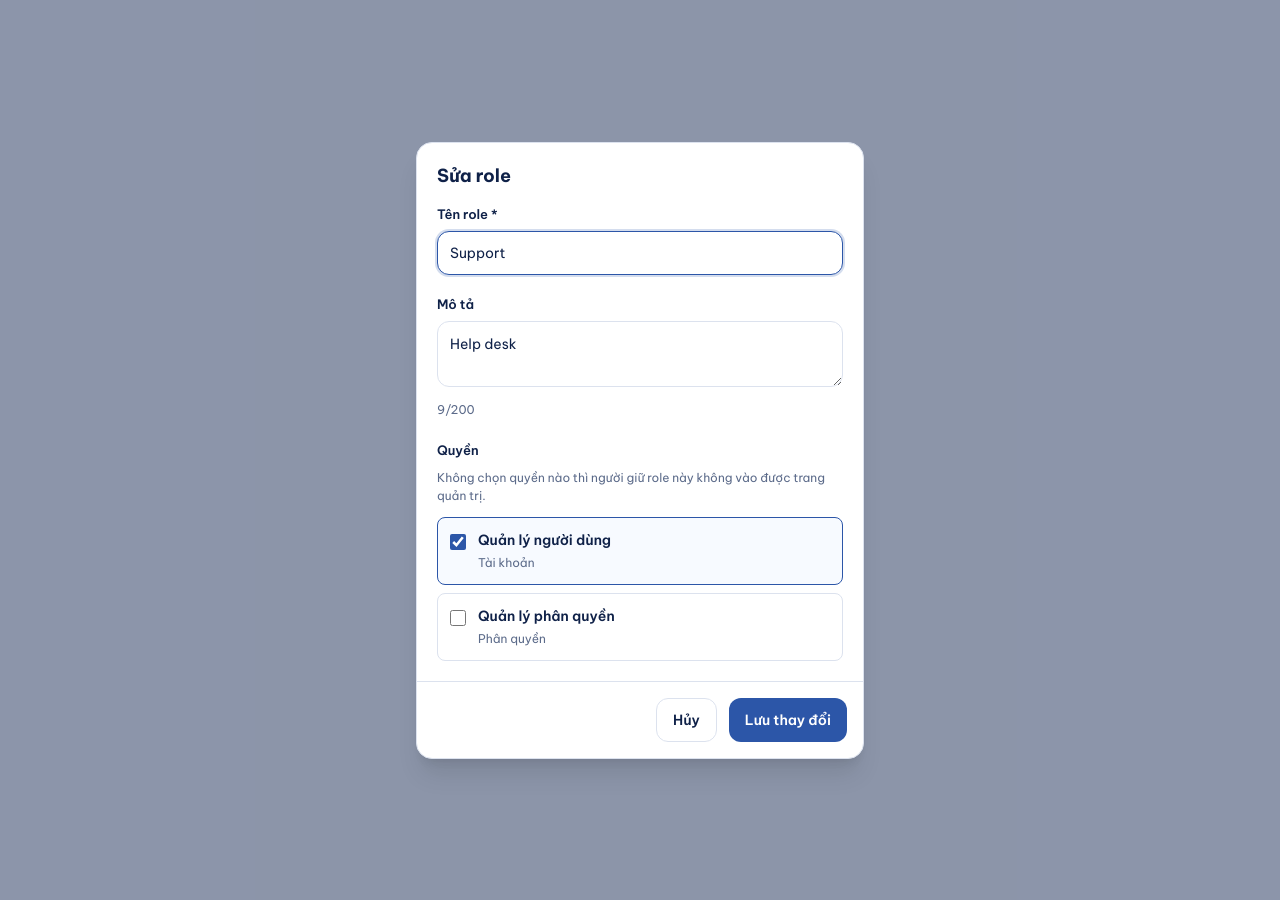
Test: A6 Roles contracts and governance safety › preserves last_role_manager error instead of weakening protection
Click the button "Lưu thay đổi" at [788, 720], box [729,698,847,742]
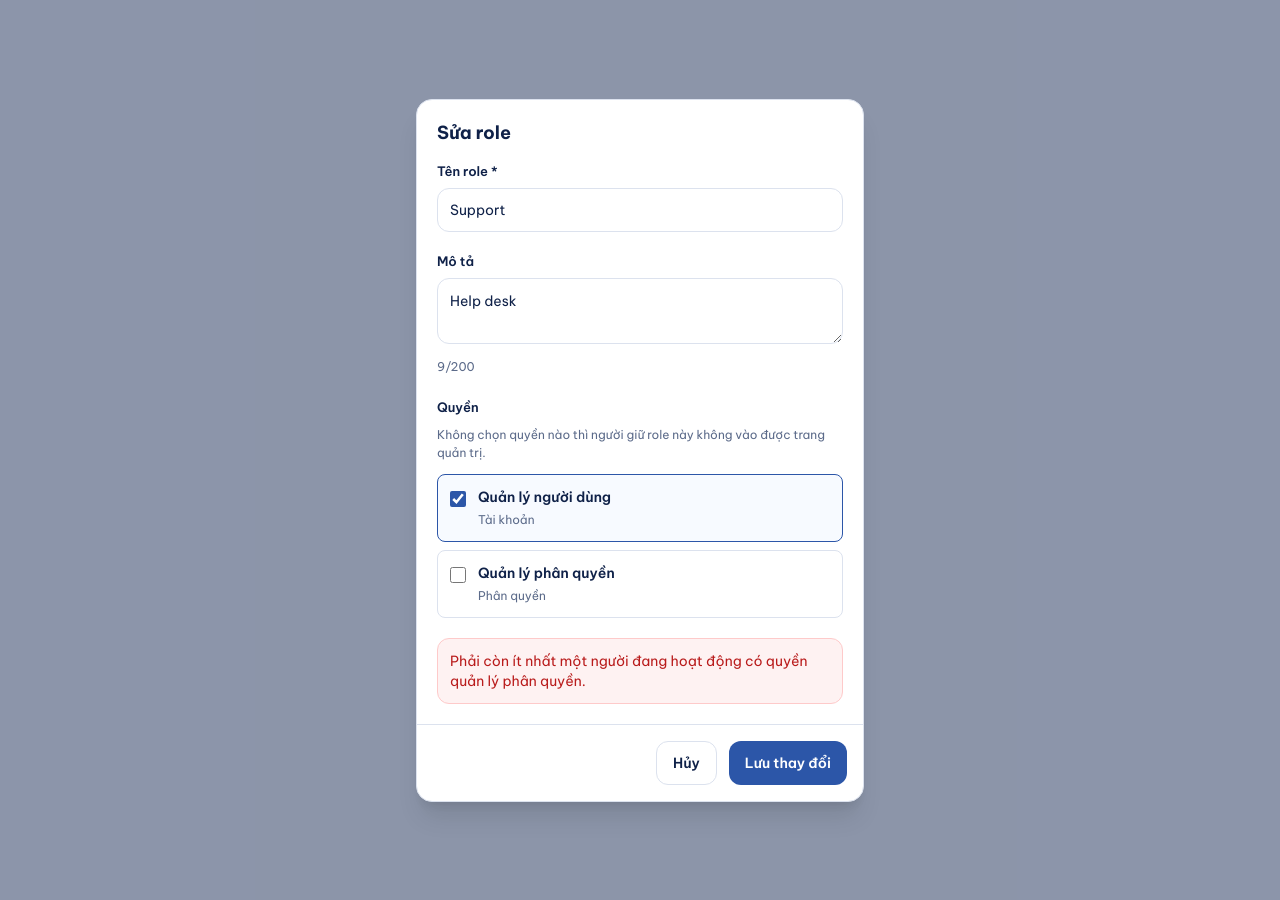
Check: the message "Phải còn ít nhất một người đang hoạt động có quyền quản lý phân quyền." is not empty, box [437,638,843,704]
